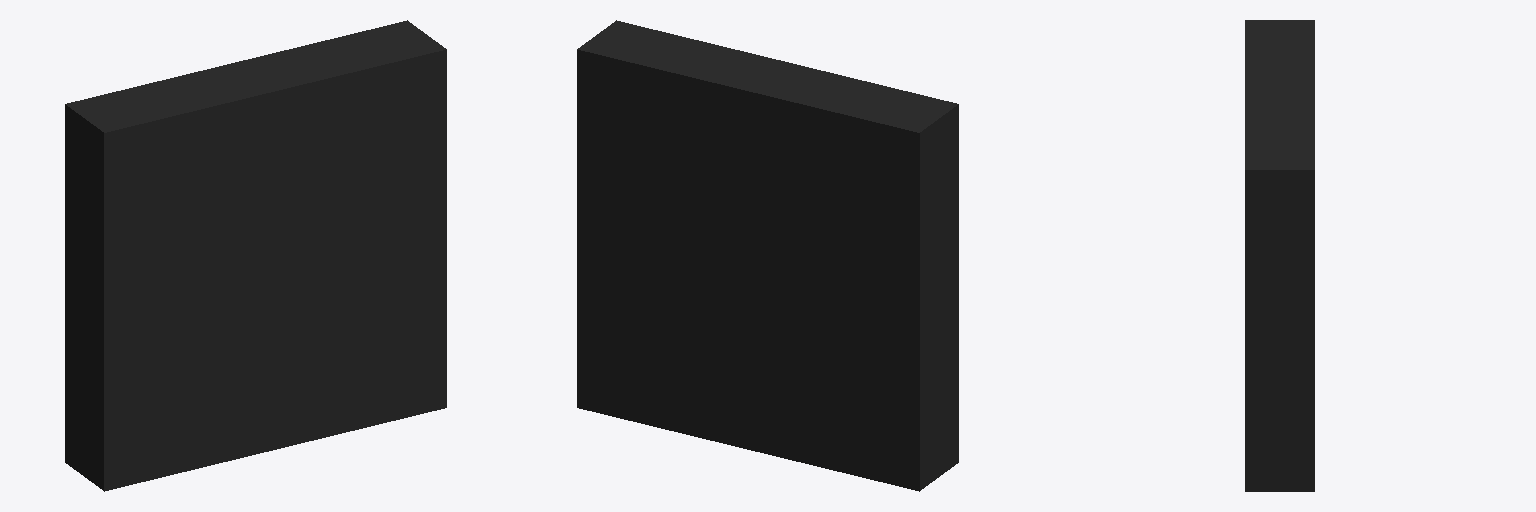
robot.urdf — block_2:
<?xml version="1.0"?>
<robot name="block_2">
  <link name="block_2_base_link">
    <contact>
      <lateral_friction value="0.001"/>
      <spinning_friction value=".001"/>
    </contact>
    <inertial>
      <origin rpy="0 0 0" xyz="0 0 0"/>
      <mass value="0."/>
      <inertia ixx="0.0000001" ixy="0" ixz="0" iyy="0.0000001" iyz="0" izz="0.0000001"/>
    </inertial>
    <visual>
      <origin rpy="0 0 0" xyz="0.0 0.0 0.0"/>
      <geometry>
        <box size="0.1 0.02 0.1"/>
      </geometry>
      <material name="blockmat">
        <color rgba="0.2 0.2 0.2 1"/>
      </material>
    </visual>
    <collision>
      <origin rpy="0 0 0" xyz="0.0 0.0 0.0"/>
      <geometry>
        <box size="0.1 0.02 0.1"/>
      </geometry>
    </collision>
  </link>
</robot>

--- Facts derived from the render (not from the file) ---
The picture shows the robot from 3 angles, left to right: view 1: azimuth 30°, elevation 25°; view 2: azimuth 150°, elevation 25°; view 3: azimuth 270°, elevation 25°; orthographic projection.
Model block_2 with 1 links and 0 joints (none), rooted at block_2_base_link, posed every joint at zero.
Links seen in each view (by area): view 1: block_2_base_link; view 2: block_2_base_link; view 3: block_2_base_link.
Boxes of the visible links, x1=… form: block_2_base_link: x1=65, y1=20, x2=446, y2=491; block_2_base_link: x1=577, y1=20, x2=958, y2=491; block_2_base_link: x1=1245, y1=20, x2=1314, y2=491.
Bounding box of the posed robot: 0.1 × 0.02 × 0.1 m (x, y, z).
Geometry: primitives only (box / cylinder / sphere), no mesh files.